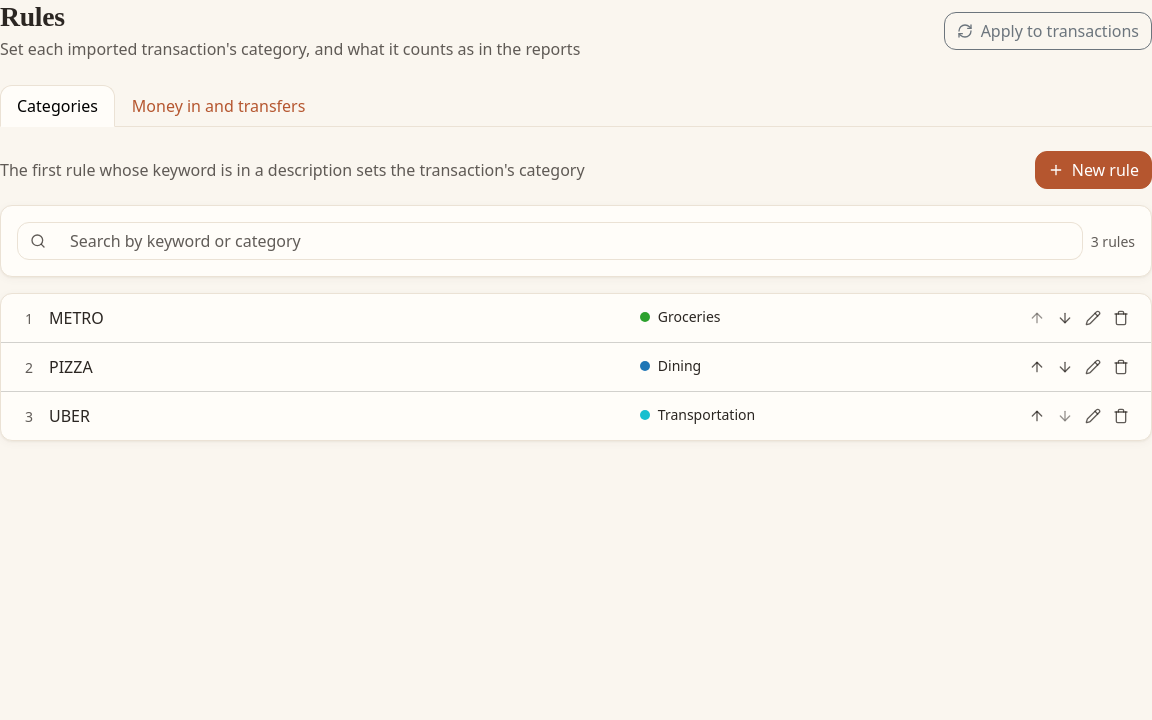
Test case: RuleListComponent › deletes only after confirmation
Click the button named "Delete UBER" at (1121,416), box [1107, 402, 1135, 430]
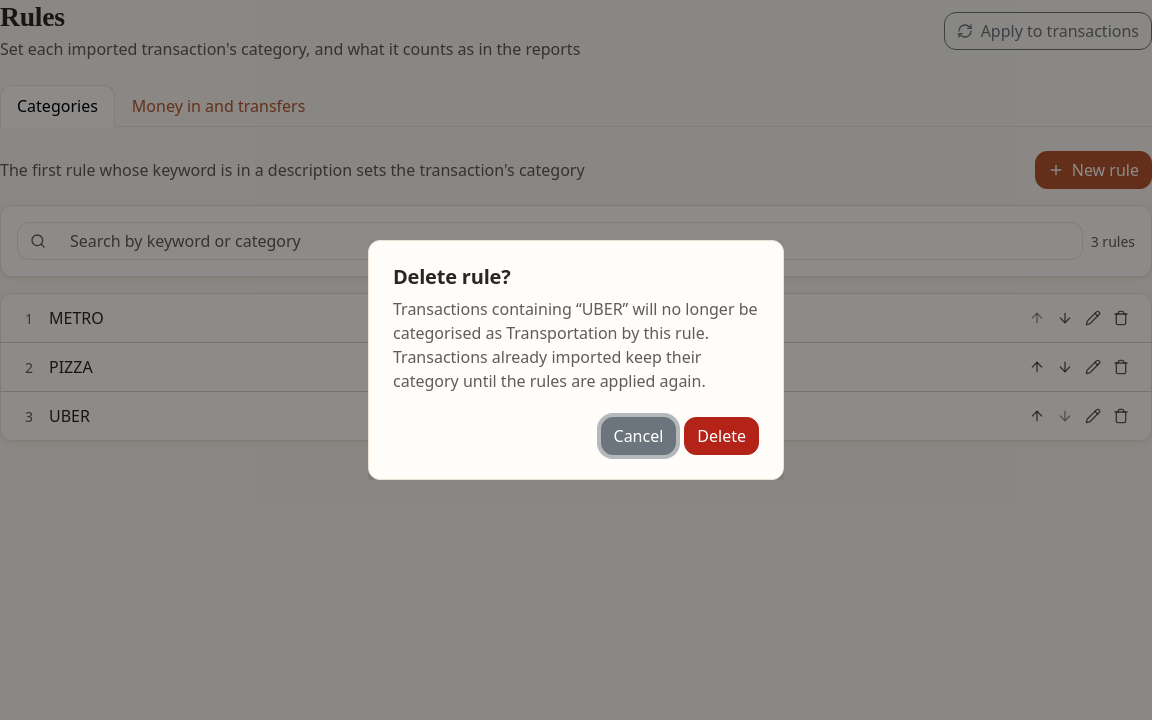
Expected: the dialog shows "Delete rule?", [393, 263, 510, 290]
